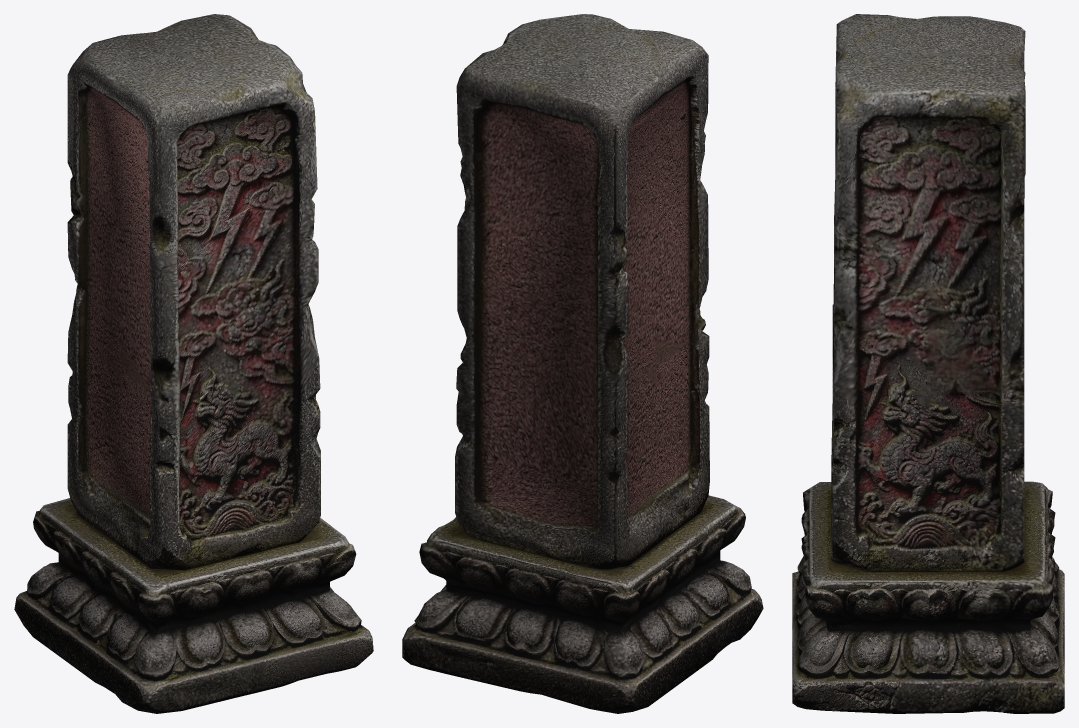
File: tripo_convert_b29e3561-a1be-4c77-abcd-e97fad831256.fbx
3 renders of one model, left to right at view 1: azimuth 30°, elevation 25°; view 2: azimuth 150°, elevation 25°; view 3: azimuth 270°, elevation 25°, orthographic. The views are drawn at different scales.
Visible parts, largest first — view 1: tripo_node_b29e3561; view 2: tripo_node_b29e3561; view 3: tripo_node_b29e3561.
Boxes of the visible parts, x1,y1,x2,y2 form: tripo_node_b29e3561: (14, 14, 373, 713); tripo_node_b29e3561: (402, 14, 763, 713); tripo_node_b29e3561: (792, 14, 1064, 713).
Bounding box in the file's own units: 0.4121 × 0.998 × 0.4082.
1 material, 1 textured.
